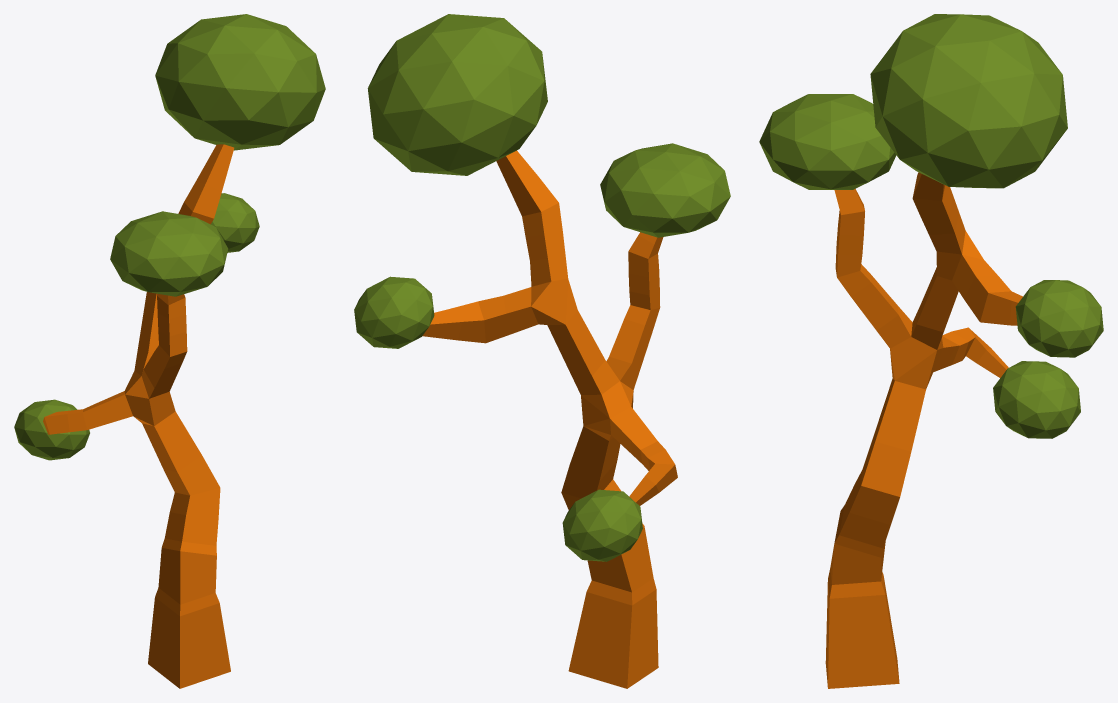
File: basicTree.fbx
3 views of the same model, side by side, from view 1: azimuth 30°, elevation 25°; view 2: azimuth 150°, elevation 25°; view 3: azimuth 270°, elevation 25° (orthographic). The views are drawn at different scales.
Visible parts, largest first — view 1: Tree; view 2: Tree; view 3: Tree.
Part boxes in pixels (x1,y1,x2,y2): Tree: [14, 14, 325, 688]; Tree: [354, 14, 730, 688]; Tree: [759, 14, 1103, 688].
Bounding box in the file's own units: 148 × 315 × 139.
